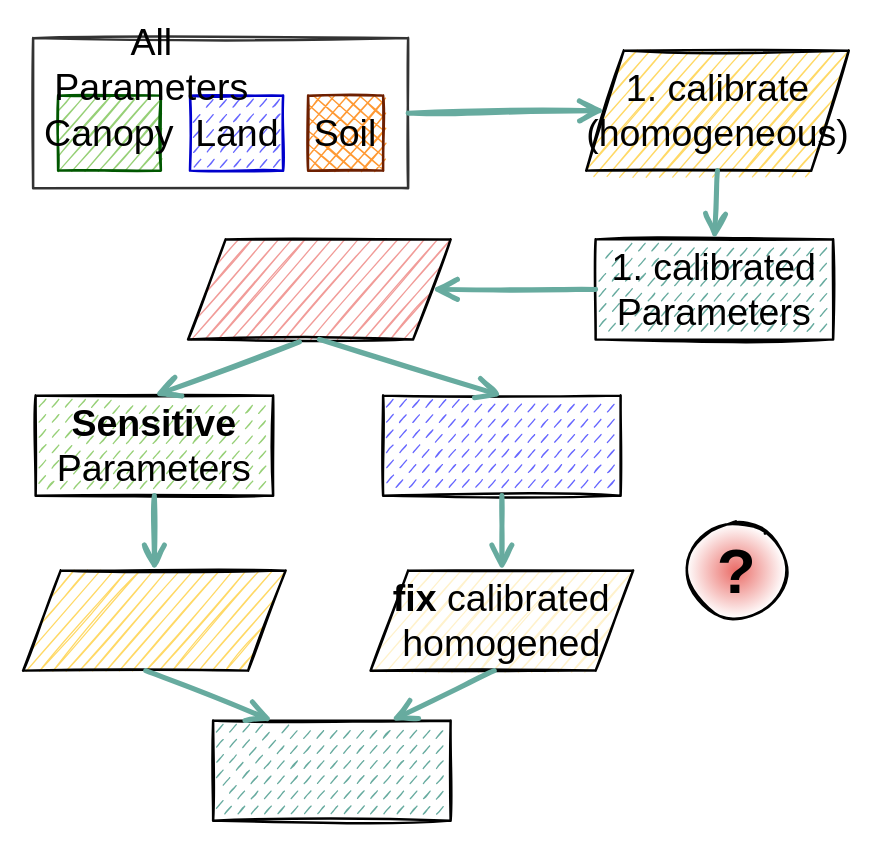
This 871x859 diagram has some shape labels left out. Here are the shapes that lost their labels. From the top down, the centre of each, then its label:
At pixel 318 289: "Sensitity analy. (homogeneous)".
At pixel 501 445: "Insensitive Parameters".
At pixel 153 620: "2. calibrate (classed)".
At pixel 331 770: "Fully calibrated Parameters".
